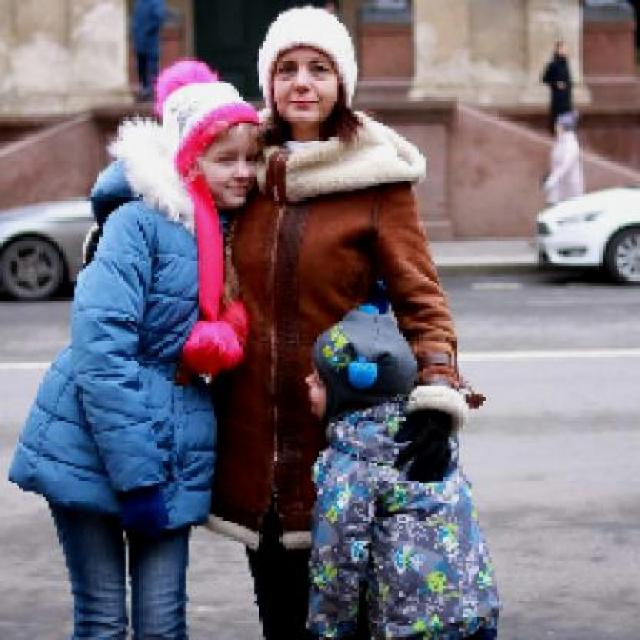child: (303, 305, 506, 638)
